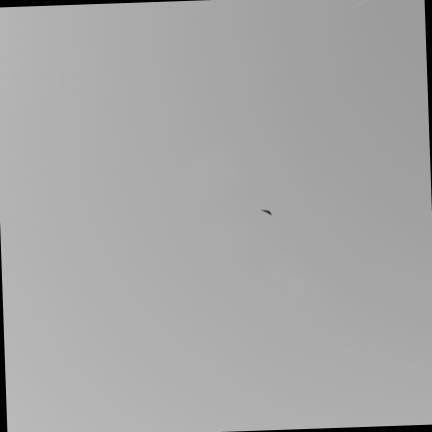Shahed: (261, 210, 272, 215)
